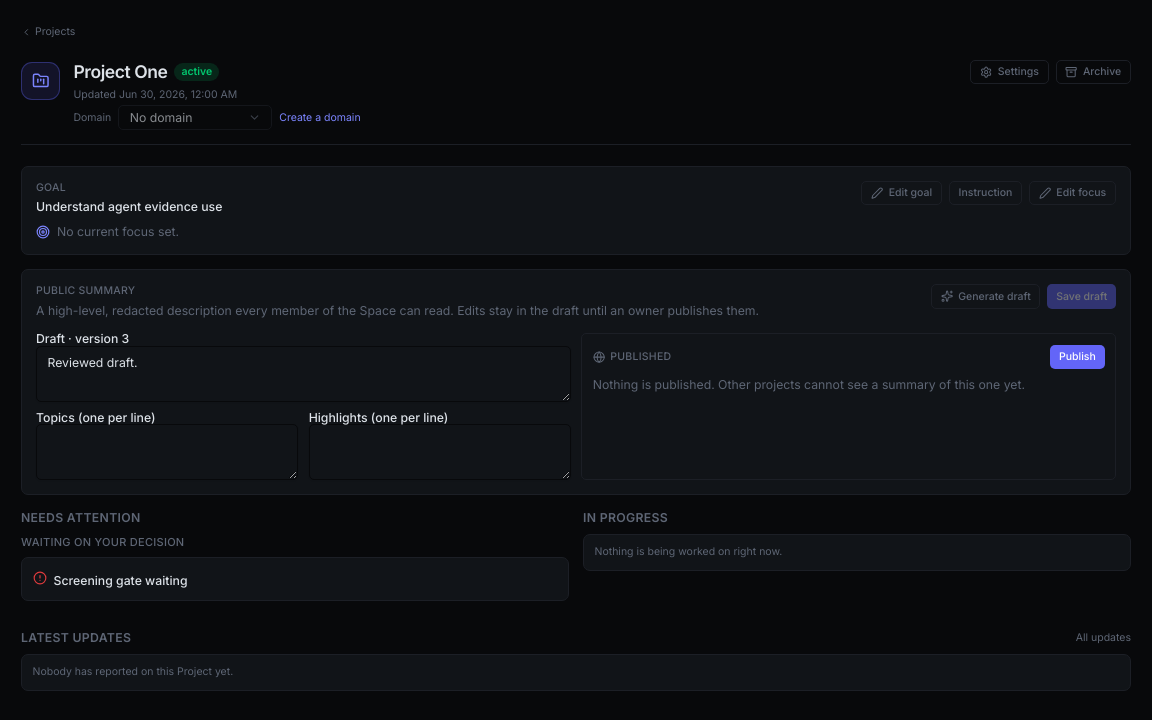
Test: ProjectDetailPage (Pulse) › publishes the saved draft version and shows the reader snapshot it produced
The width and height of the screenshot is (1152, 720).
Expected: the text "Nothing is published. Other projects cannot see a summary of this one yet." is shown, [593,377,1025,392]
What coordinates should you click on to do the following:
click the button "Publish"
I would click on:
 (1077, 357)
Its box is [1050,345,1104,369].
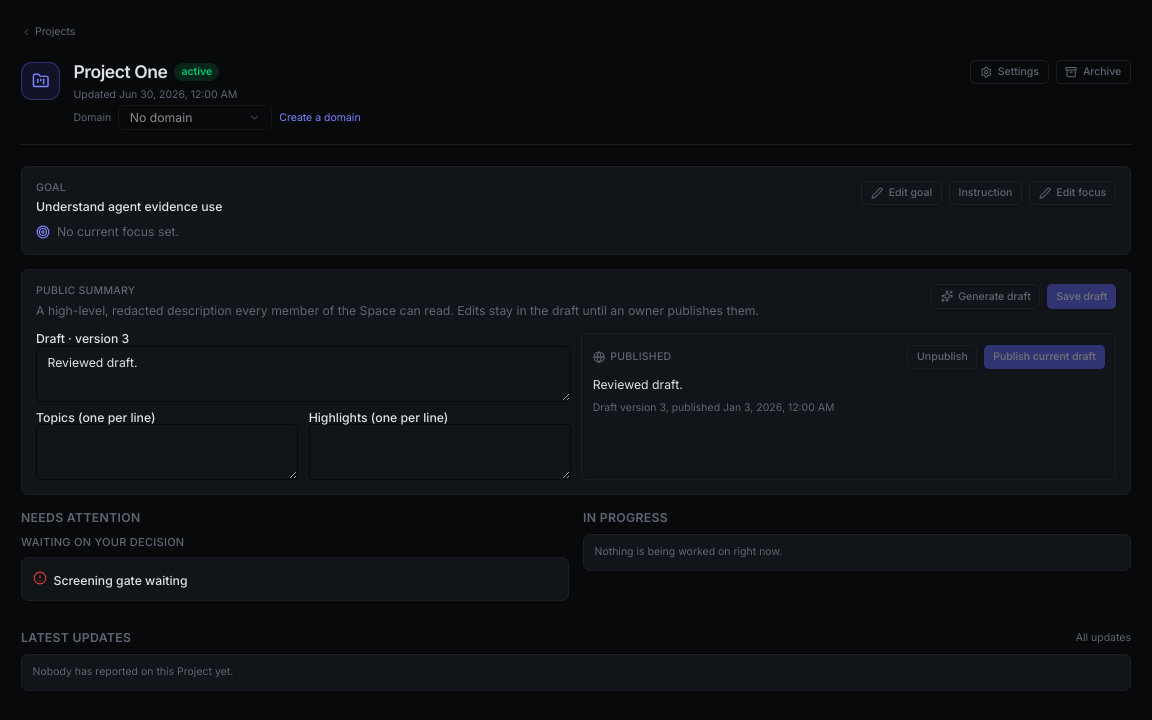
Now the text "Draft version 3, published Jan 3, 2026, 12:00 AM" is shown, box [593,401,835,414]
Now the button "Unpublish" is shown, box [907,345,978,369]
